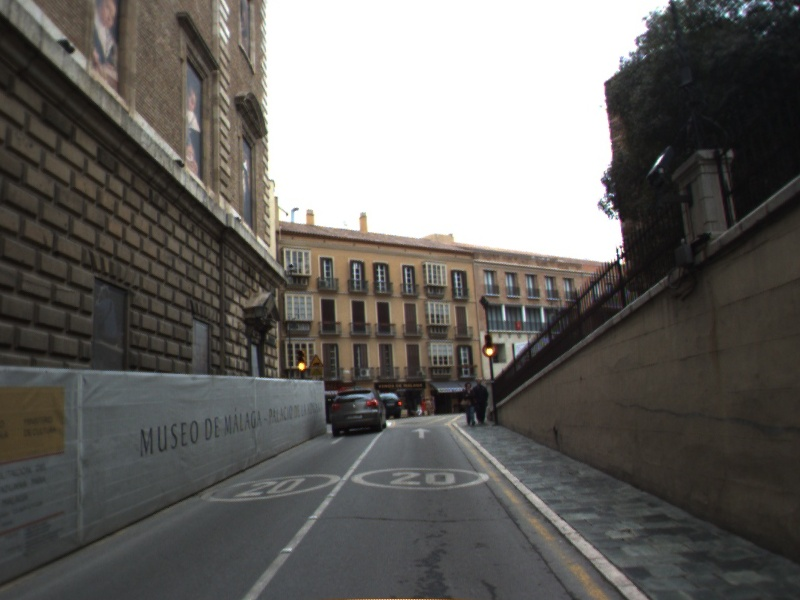STRAIGHT: (409, 426, 433, 440)
